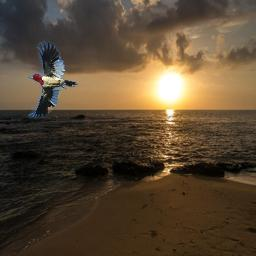Woodpecker: (28, 41, 78, 119)
